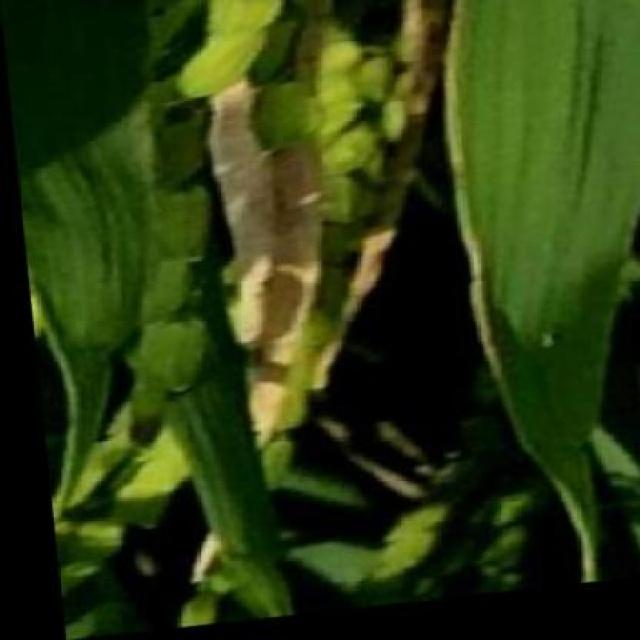Brown_Spot: (420, 0, 640, 415)
